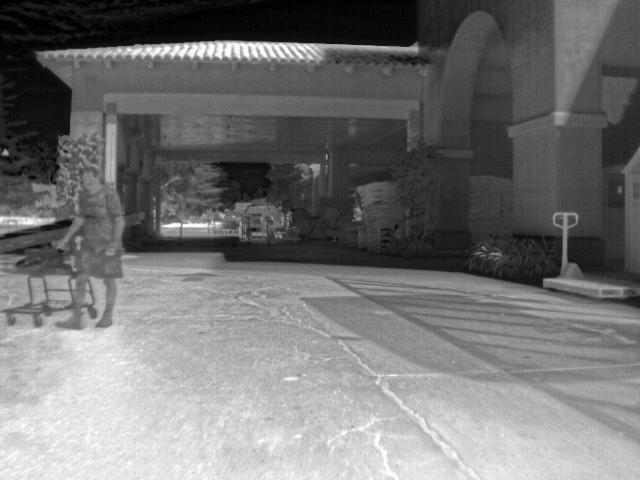person: (72, 164, 126, 333), (350, 204, 362, 225)
